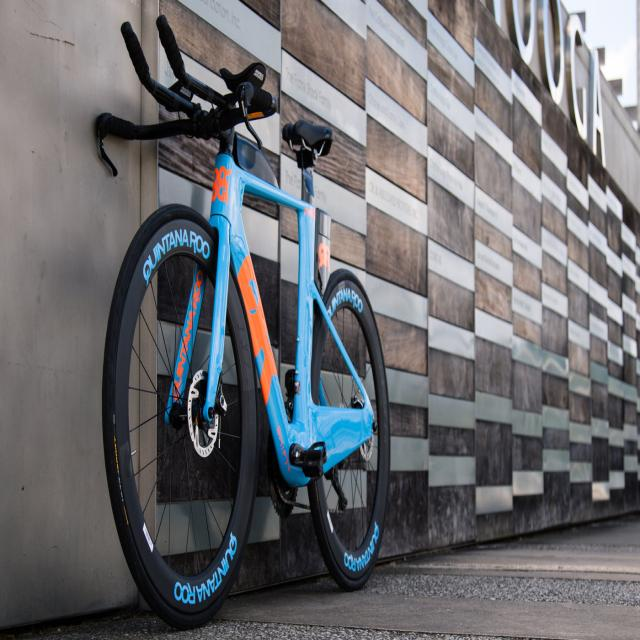TT-bike: (82, 15, 391, 630)
